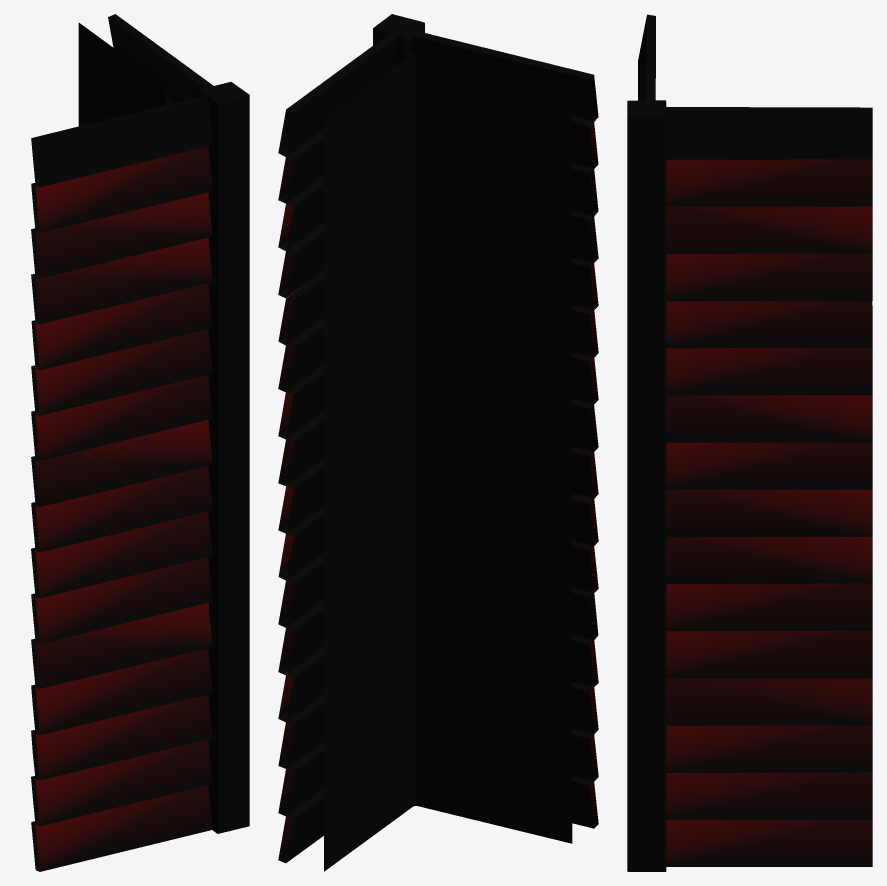
Rendered from SM_House_ExtWall_Corner_A4.fbx.
3 views of the same model, side by side, from view 1: azimuth 30°, elevation 25°; view 2: azimuth 150°, elevation 25°; view 3: azimuth 270°, elevation 25° (orthographic). The views are drawn at different scales.
Visible parts, largest first — view 1: SM_House_ExtWall_Corner_A4; view 2: SM_House_ExtWall_Corner_A4; view 3: SM_House_ExtWall_Corner_A4.
Boxes of the visible parts, bbox=[...] form: SM_House_ExtWall_Corner_A4: bbox=[31, 14, 249, 871]; SM_House_ExtWall_Corner_A4: bbox=[278, 14, 598, 871]; SM_House_ExtWall_Corner_A4: bbox=[627, 14, 872, 871].
Bounding box in the file's own units: 94.47 × 94.31 × 321.
